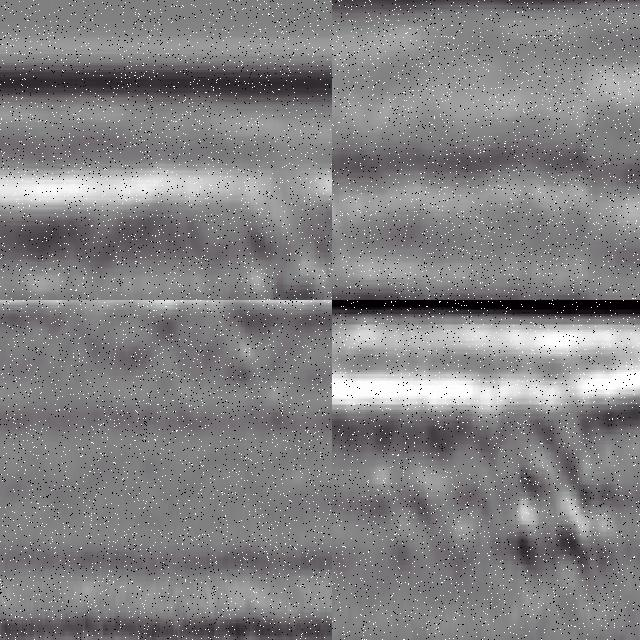crack: (1, 301, 15, 640)
loose: (380, 384, 629, 571), (333, 110, 395, 301)
